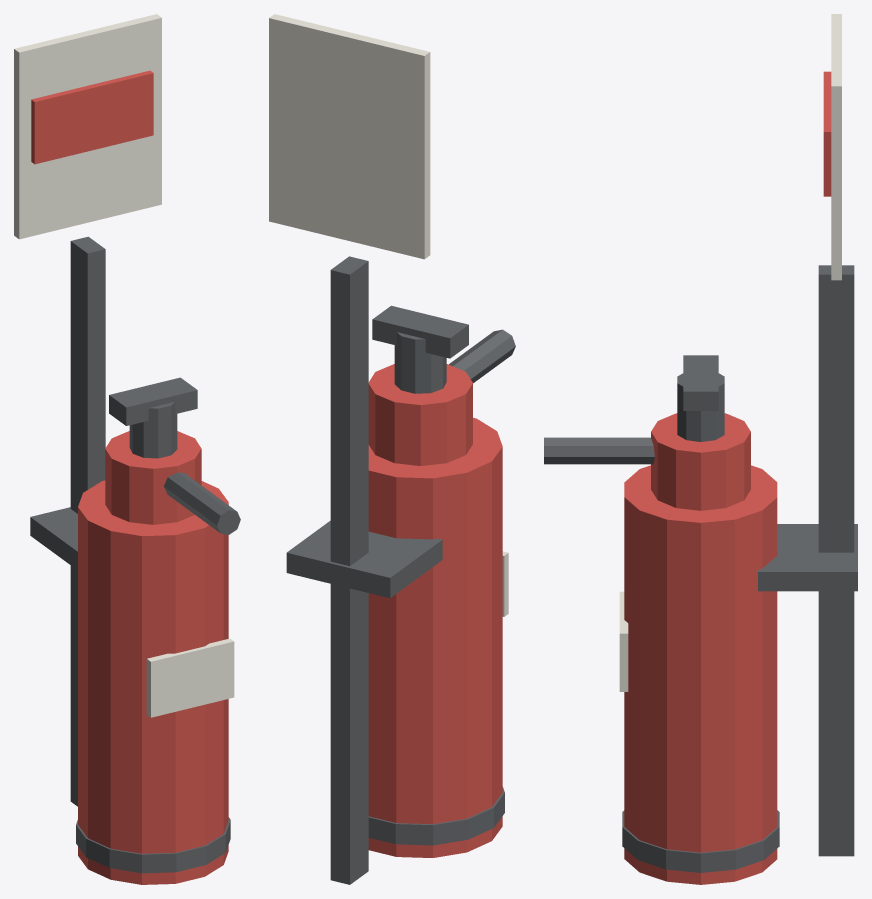
File: fire-extinguisher-on-a-bracket.glb
The picture shows the model from 3 angles, left to right: view 1: azimuth 30°, elevation 25°; view 2: azimuth 150°, elevation 25°; view 3: azimuth 270°, elevation 25°; orthographic projection. The views are drawn at different scales.
Parts seen in each view (by area): view 1: machine-shop-and-factory-hall-fire-extinguisher; view 2: machine-shop-and-factory-hall-fire-extinguisher; view 3: machine-shop-and-factory-hall-fire-extinguisher.
Boxes of the visible parts, x1=… form: machine-shop-and-factory-hall-fire-extinguisher: x1=14, y1=14, x2=240, y2=884; machine-shop-and-factory-hall-fire-extinguisher: x1=269, y1=14, x2=515, y2=884; machine-shop-and-factory-hall-fire-extinguisher: x1=544, y1=14, x2=857, y2=884.
Size of the model in its own units: 0.24 by 1.24 by 0.4399.
